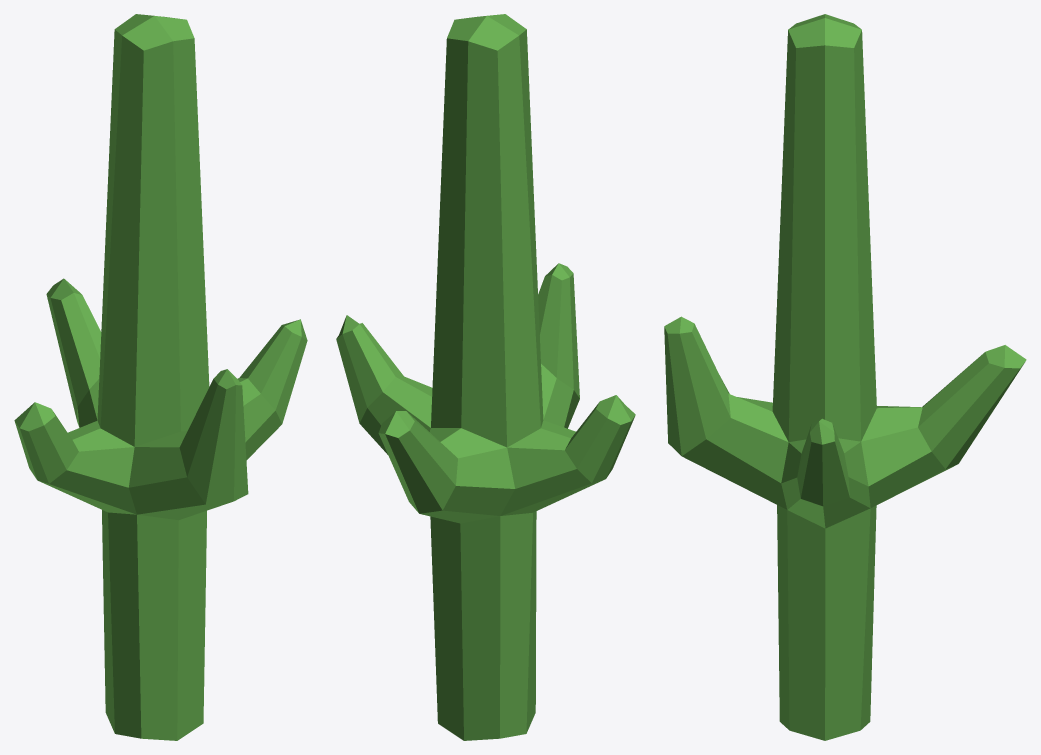
Rendered from cactus.02.fbx.
3 renders of one model, left to right at view 1: azimuth 30°, elevation 25°; view 2: azimuth 150°, elevation 25°; view 3: azimuth 270°, elevation 25°, orthographic.
Visible parts, largest first — view 1: cactus.02; view 2: cactus.02; view 3: cactus.02.
Boxes of the visible parts, x1=… form: cactus.02: x1=14, y1=14, x2=307, y2=740; cactus.02: x1=336, y1=14, x2=635, y2=740; cactus.02: x1=664, y1=14, x2=1026, y2=740.
Bounding box in the file's own units: 117 × 278 × 127.
